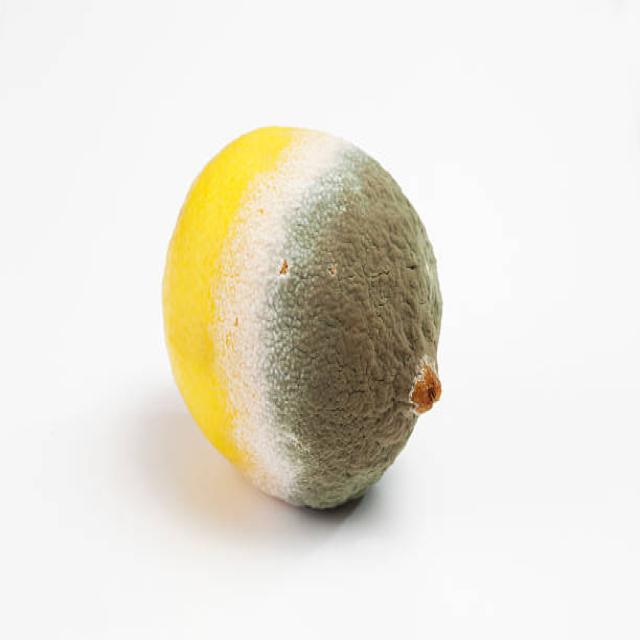Rotten: (160, 124, 444, 511)
